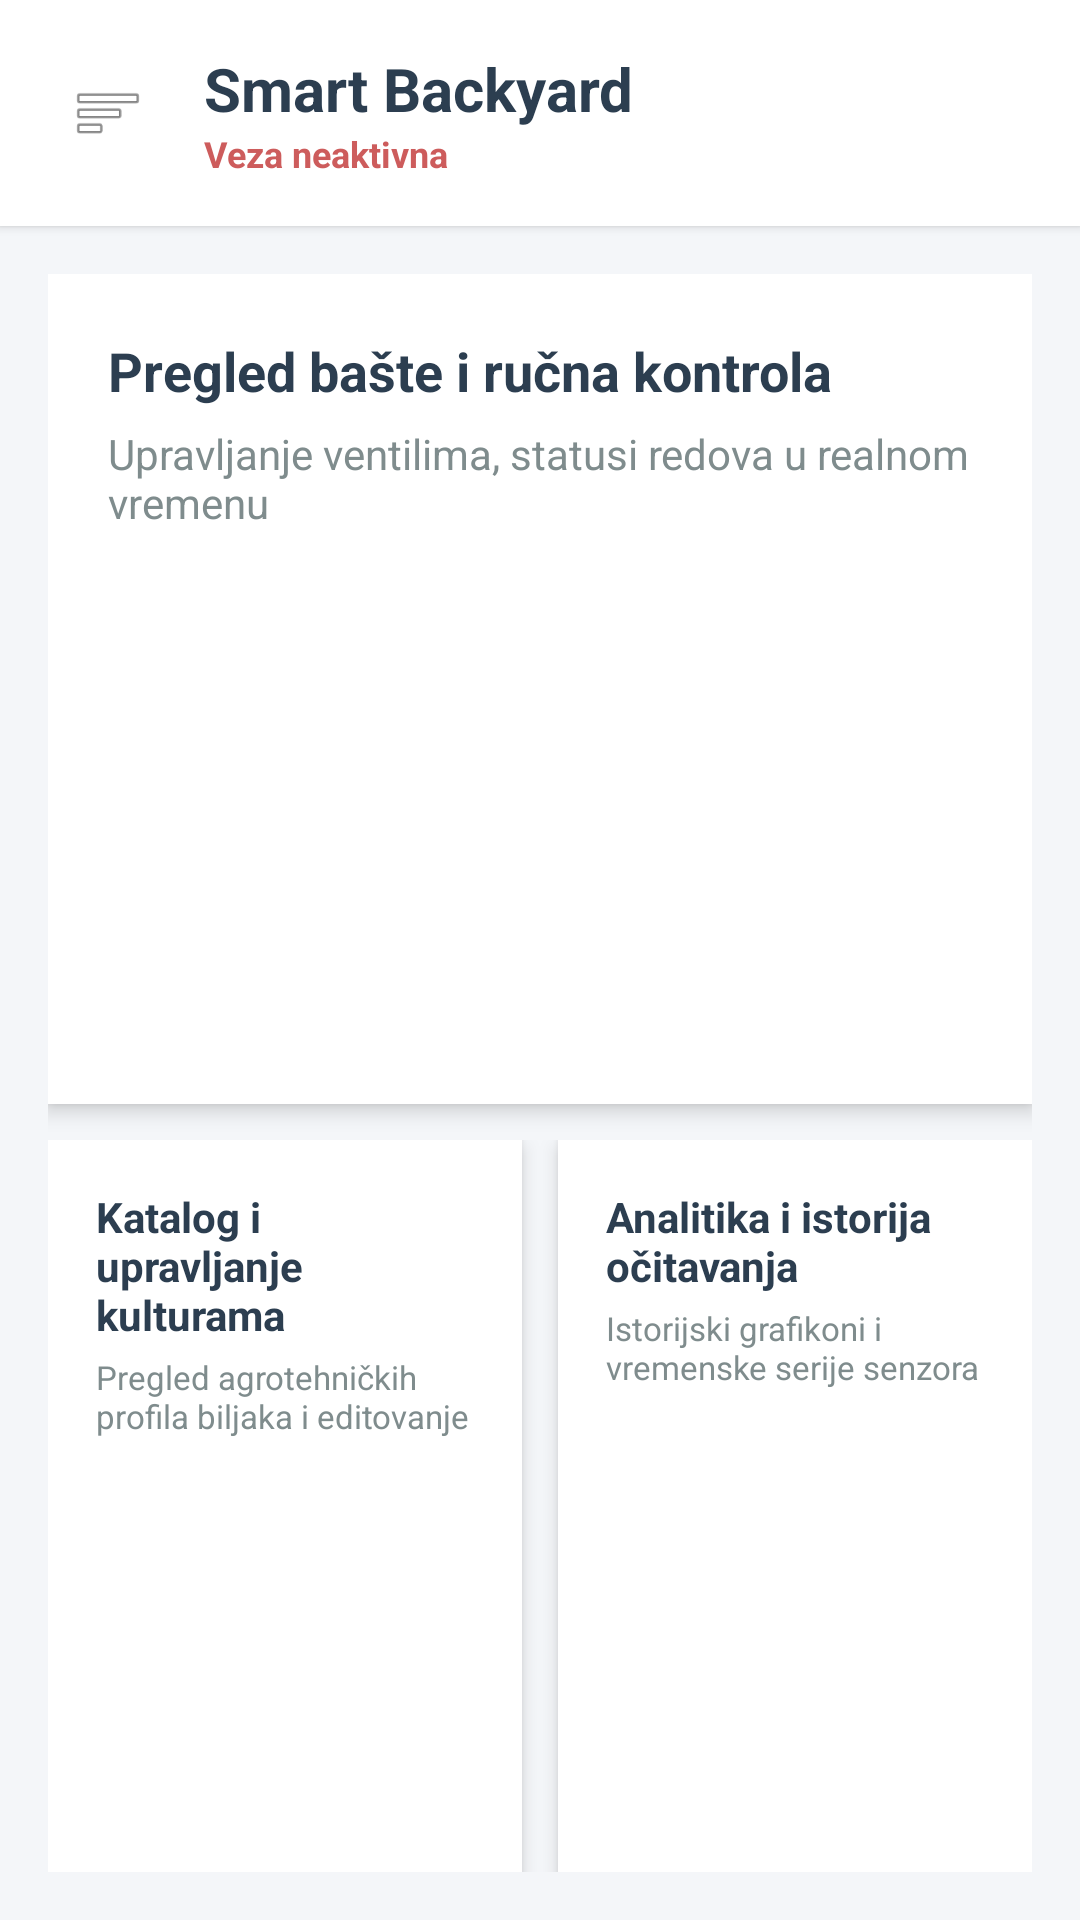

Point at icon controls on the screen. Image size 1080px x 1920px, points as (x,y).
Otvori navigaciju: (108,113)
